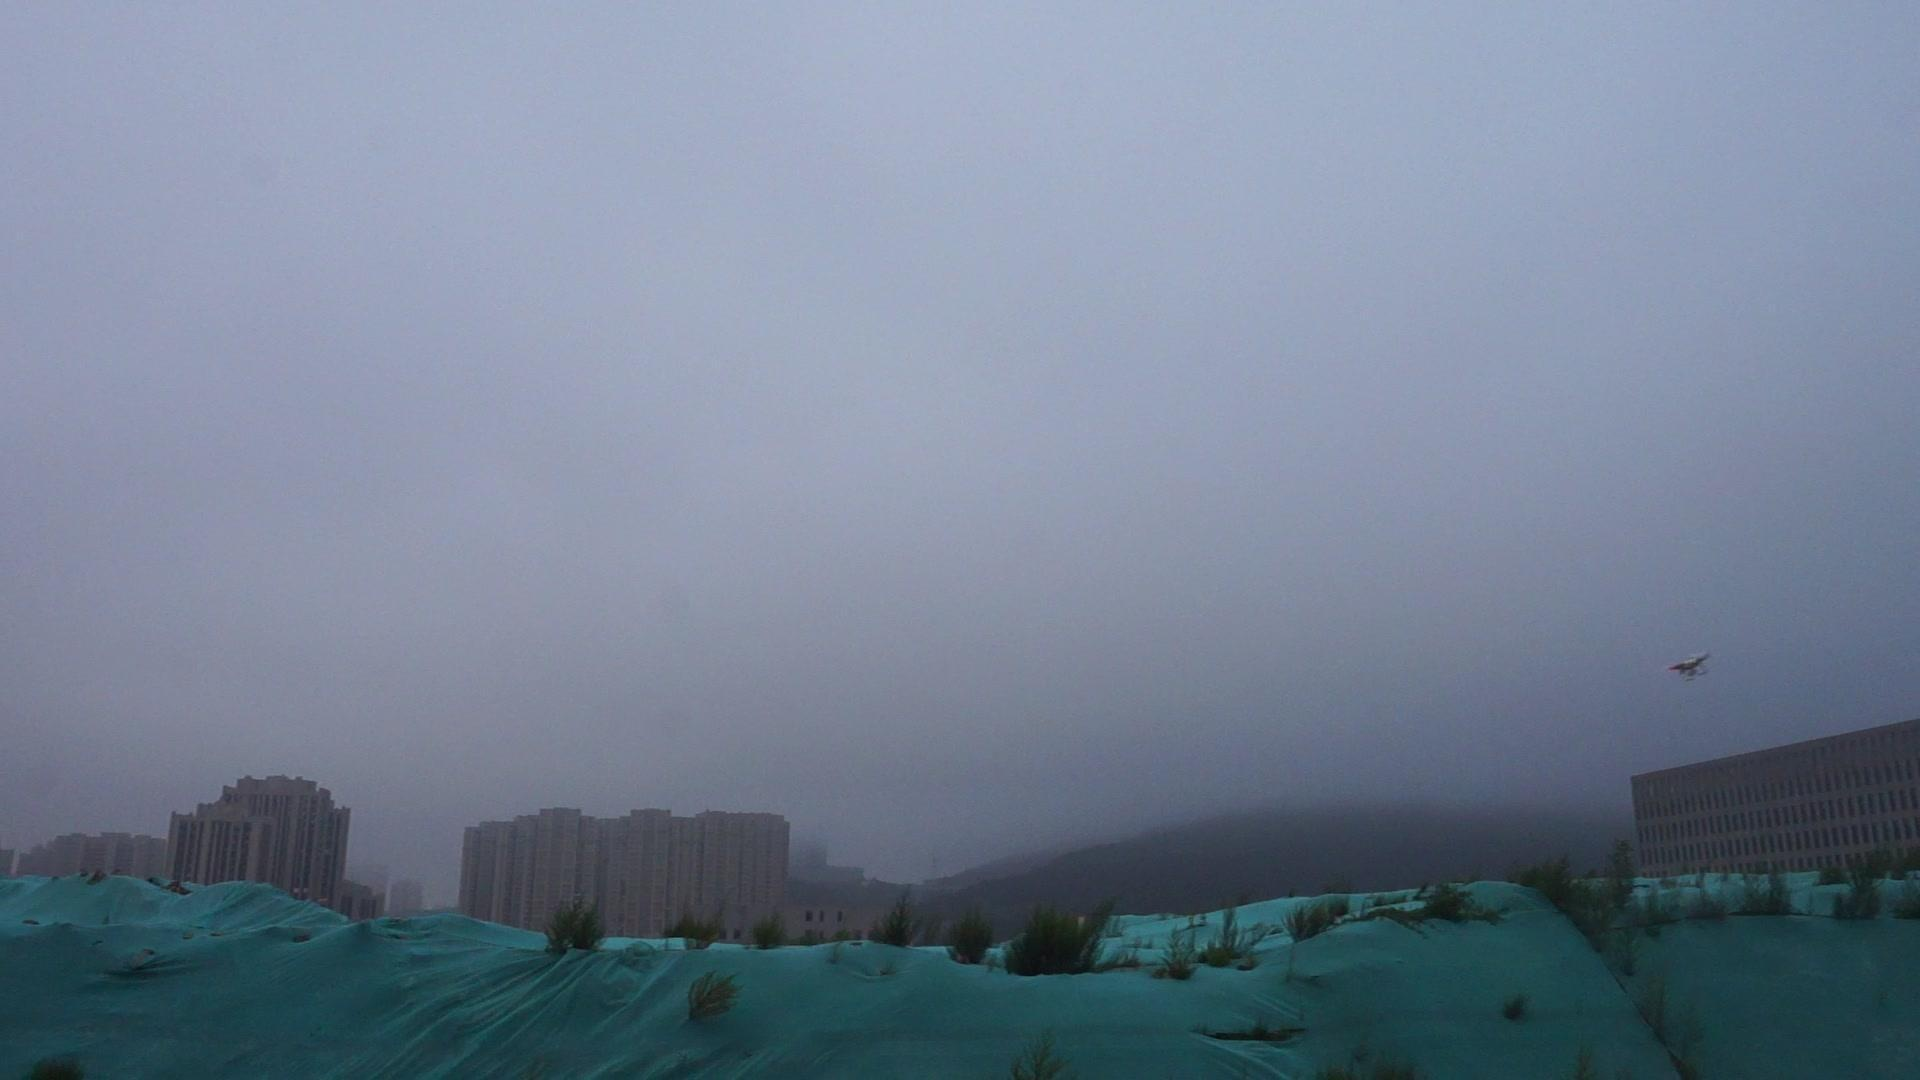UAV: (1665, 654, 1713, 683)
